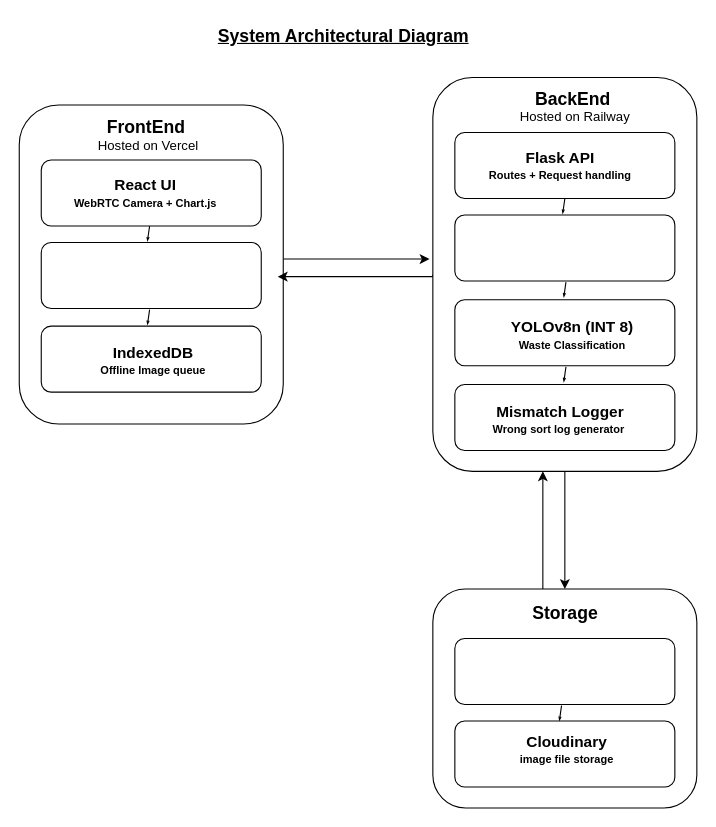
The diagram is 716 pixels wide and 827 high, and some of its shapes have lost their labels. The box of each missing label's shape, as (x1, y1, x2, y2) in pixels:
Auth Service JWT Verification + RBAC: (454, 214, 675, 281)
PostgreSQL DB (prod)/ SQLite (dev) railway - users, logs, paths: (454, 637, 675, 705)
Service Worker PWA Install + Sync: (40, 241, 261, 309)
